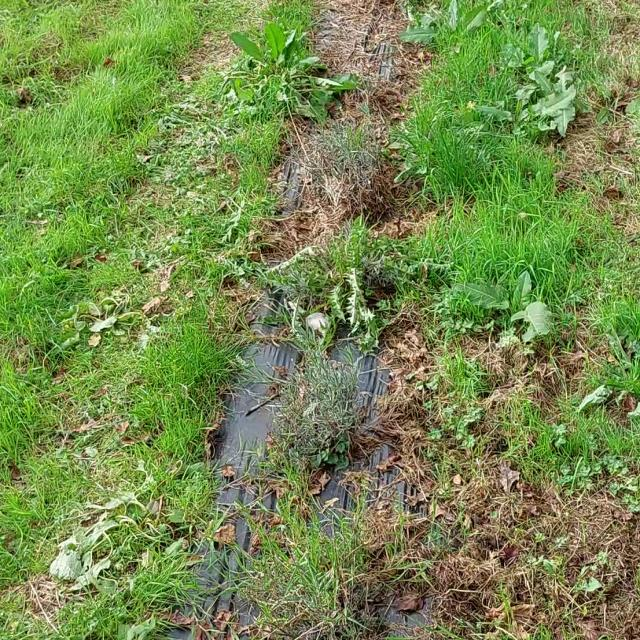organic waste: (29, 483, 194, 629), (453, 251, 578, 364), (218, 26, 349, 124), (447, 0, 589, 85), (74, 283, 164, 360), (514, 58, 600, 136), (379, 0, 504, 50)
